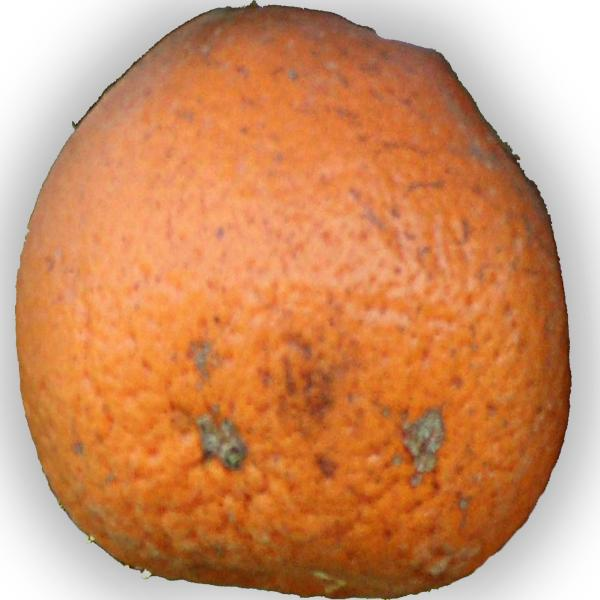Machas negras: (8, 0, 570, 599)
